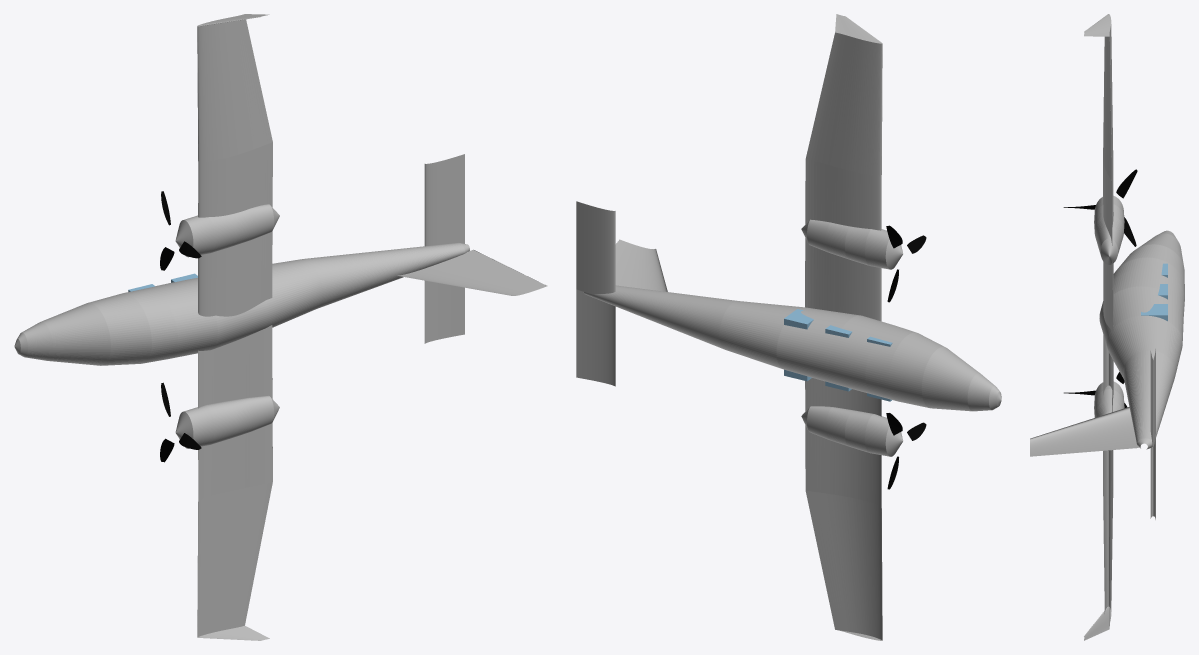
File: X57_Maxwell_Mod2.gltf
3 renders of one model, left to right at view 1: azimuth 30°, elevation 25°; view 2: azimuth 150°, elevation 25°; view 3: azimuth 270°, elevation 25°, orthographic. The views are drawn at different scales.
Parts seen in each view (by area): view 1: Renderer Node; view 2: Renderer Node; view 3: Renderer Node.
Part boxes in pixels (box(x1,y1,x2,y2)): Renderer Node: box(14, 14, 547, 640); Renderer Node: box(576, 14, 1001, 640); Renderer Node: box(1030, 14, 1184, 640).
Bounding box in the file's own units: 8.83 × 11.4 × 2.65.
